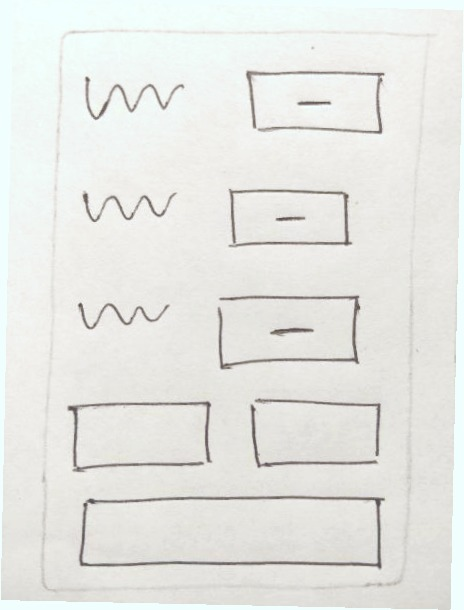button: (228, 55, 403, 150), (209, 286, 373, 375), (221, 179, 366, 257)
text: (70, 170, 186, 237), (78, 68, 194, 125), (70, 290, 179, 343)
text_input: (68, 485, 393, 578), (60, 394, 227, 484), (241, 389, 392, 480)
